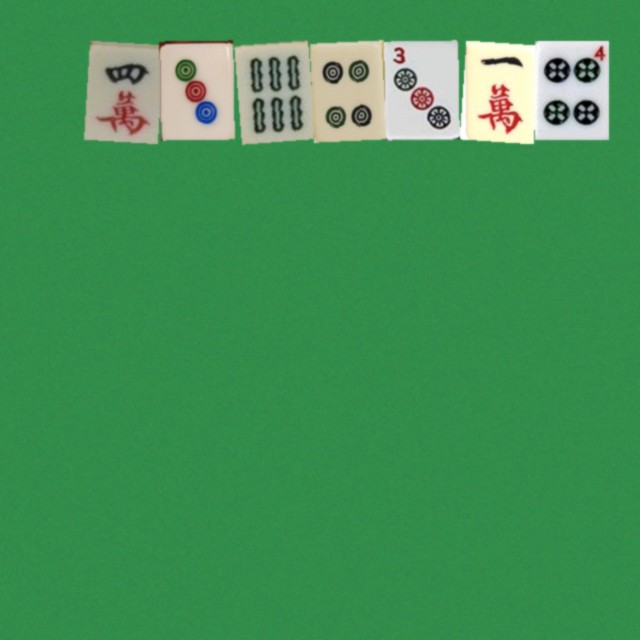tile: (84, 40, 158, 139), (159, 40, 233, 139), (234, 40, 308, 139), (309, 40, 383, 139), (384, 40, 458, 139), (459, 40, 533, 139), (534, 40, 608, 139)
